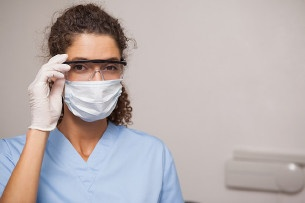Mask: (60, 53, 128, 121)
